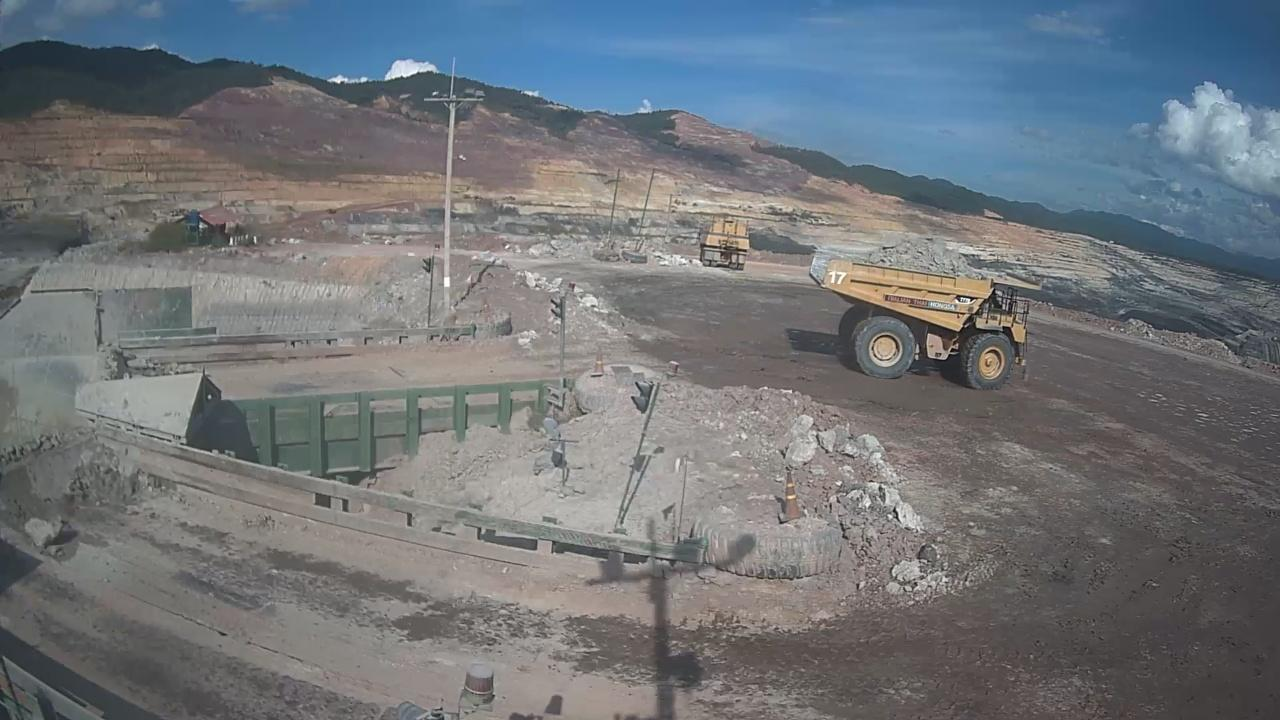full_load: (879, 234, 1001, 282)
mining_truck: (808, 217, 1040, 390)
tail_number: (828, 268, 851, 290)
